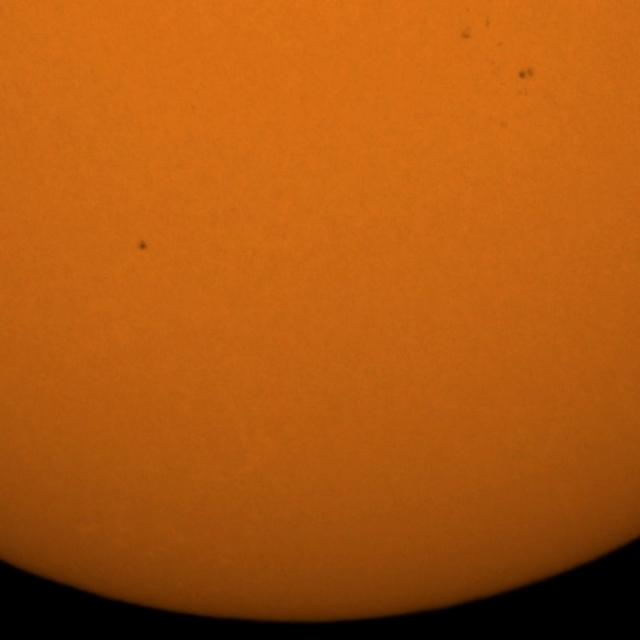sunspot: (517, 66, 535, 82), (459, 28, 474, 42), (137, 239, 149, 252), (483, 18, 492, 30)
